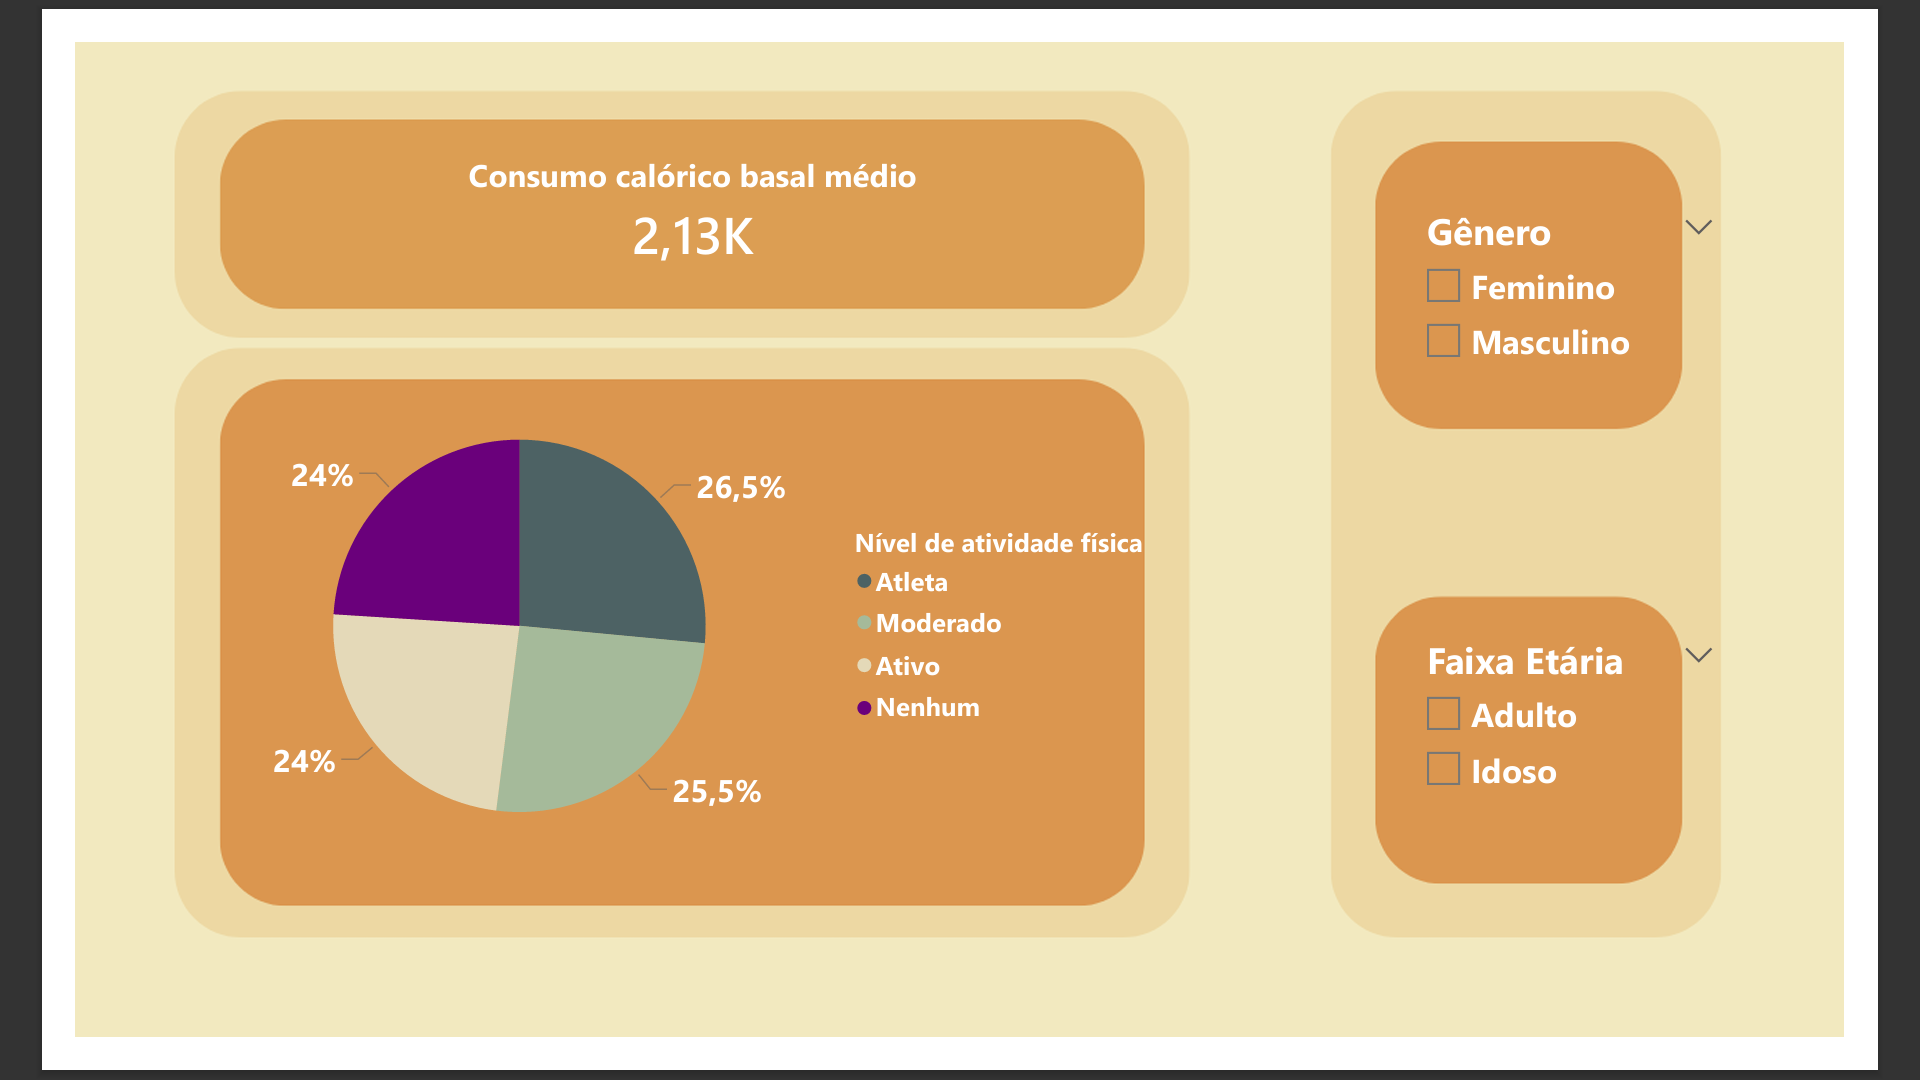

The page's visual inventory and layout, read from the dashboard file:
{"tool":"powerbi","page":{"name":"Geral","canvas":[1280,720],"ordinal":0},"visuals":[{"type":"pieChart","fields":{"Category":["Personal_DATA.Nível de atividade física"],"Y":["CountNonNull(Personal_DATA.ID_Entrevistado)"]},"box":[74.1,227.8,720.4,389.7],"z":0},{"type":"cardVisual","fields":{"Data":["Avg(Formula_DATA.C. C. D. Basal)"]},"box":[138.6,43.9,616.1,153.7],"z":1000},{"type":"slicer","fields":{"Values":["Personal_DATA.Gênero"]},"box":[964.7,112.5,233.3,229.2],"z":2000},{"type":"slicer","fields":{"Values":["Personal_DATA.Faixa Etária"]},"box":[964.7,422.6,233.3,229.2],"z":3000}]}

Visuals, with their boxes in screenshot pixels (x1, y1, x2, y2), scaled from the page's 1280x720 canvas onto the 1920x1080 screenshot:
pieChart - Personal_DATA.Nível de atividade física x CountNonNull(Personal_DATA.ID_Entrevistado): select_region(111, 342, 1192, 926)
cardVisual - Avg(Formula_DATA.C. C. D. Basal): select_region(208, 66, 1132, 296)
slicer - Personal_DATA.Gênero: select_region(1447, 169, 1797, 513)
slicer - Personal_DATA.Faixa Etária: select_region(1447, 634, 1797, 978)
